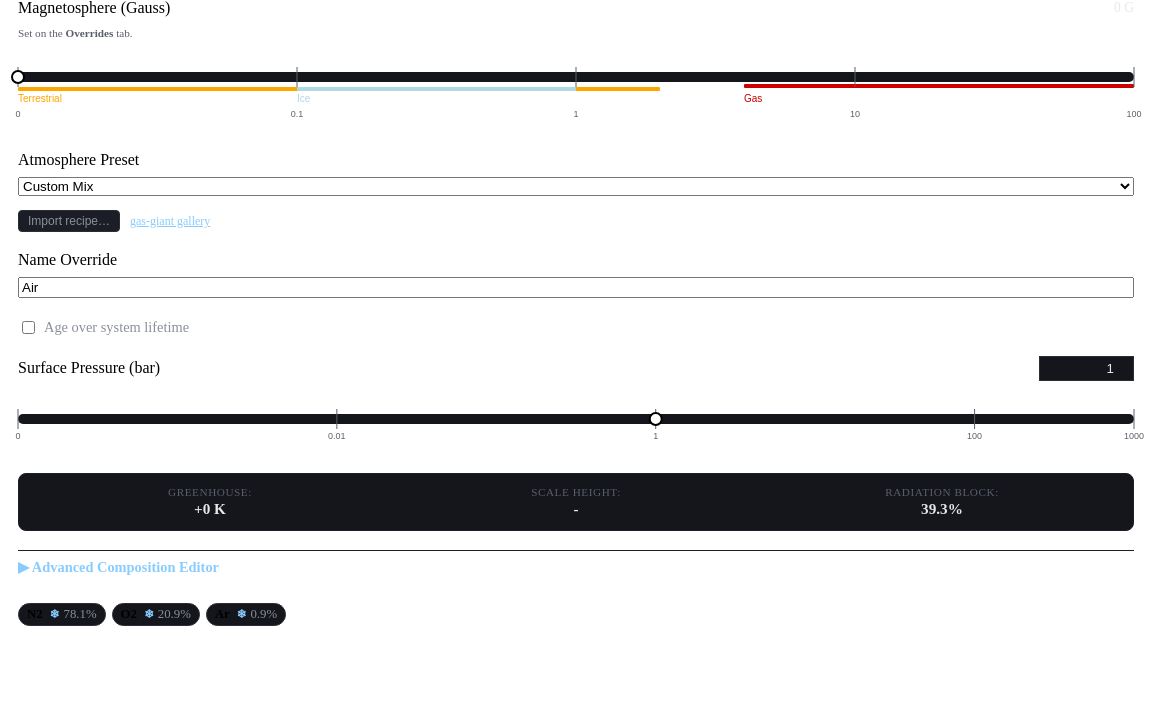
Test case: B100 — the gas number box must not delete what it displays › speaks ppm below one per cent and per cent above it
Click the text with class "advanced-toggle" at [576, 567], box x1=18 y1=550 x2=1134 y2=584
(page scrolled)
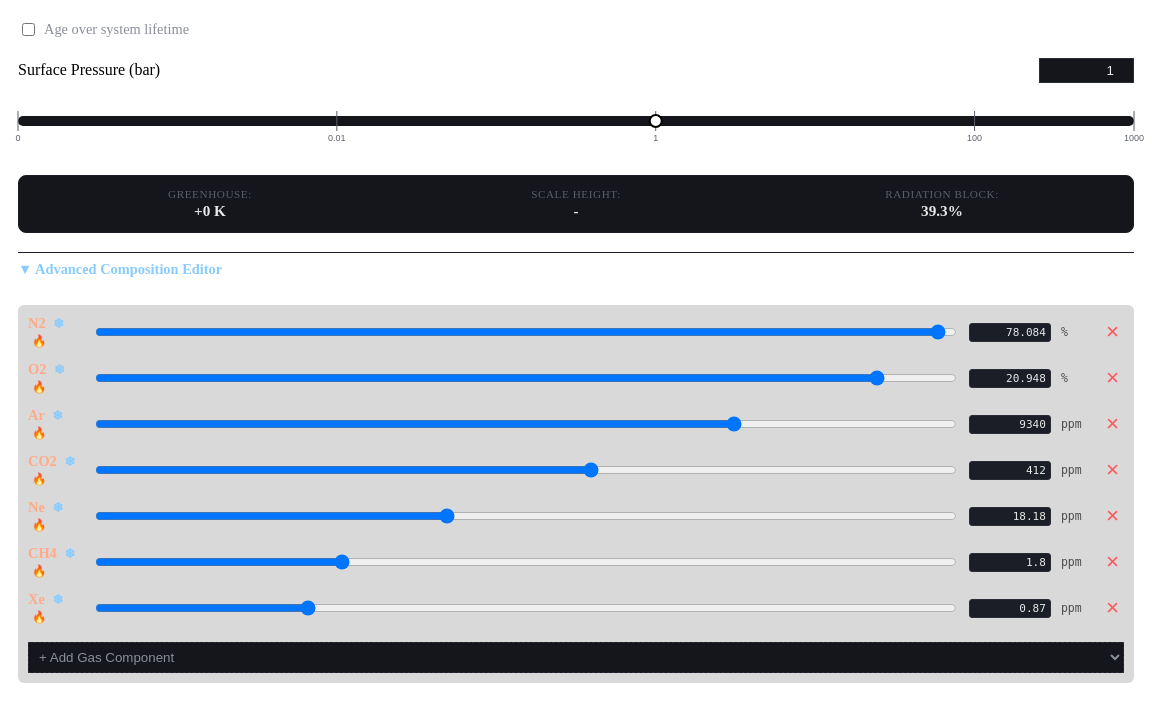
Now the 1st text with class "gas-unit" reads "ppm", box x1=1061 y1=417 x2=1082 y2=431
